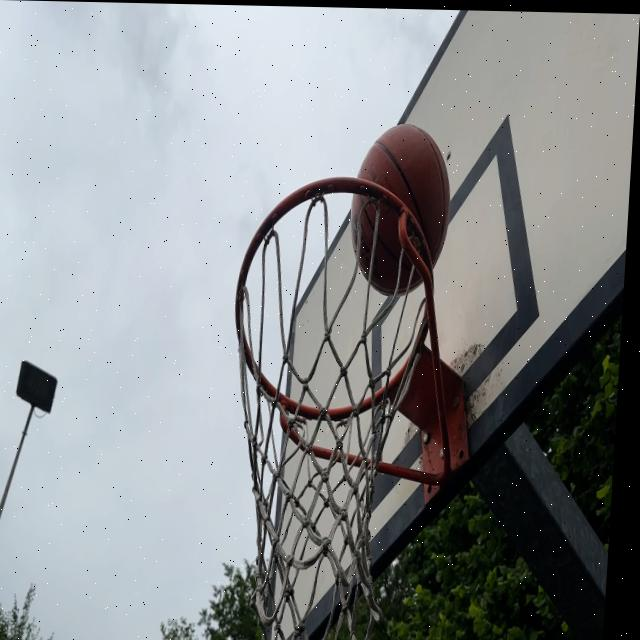rebound_hit: (347, 124, 452, 298)
